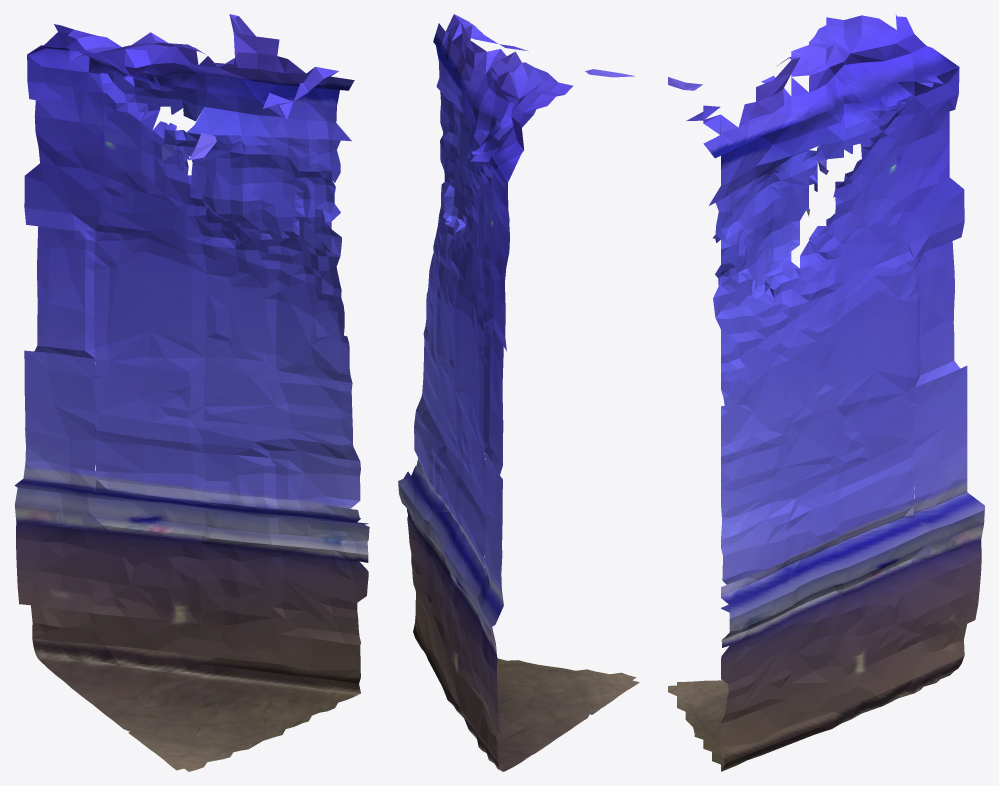
3 views of the same model, side by side, from view 1: azimuth 30°, elevation 25°; view 2: azimuth 150°, elevation 25°; view 3: azimuth 270°, elevation 25° (orthographic).
Visible parts, largest first — view 1: mesh; view 2: mesh; view 3: mesh.
Part boxes in pixels (box(x1,y1,x2,y2)): mesh: box(14, 14, 369, 771); mesh: box(398, 14, 639, 771); mesh: box(668, 14, 984, 771).
Size of the model in its own units: 1.48 by 4.27 by 1.8.
Materials: 1 (1 with a texture image).
